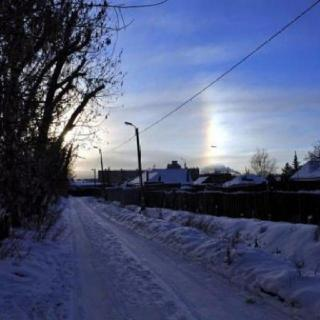Cirrostratus: (103, 0, 320, 193)
